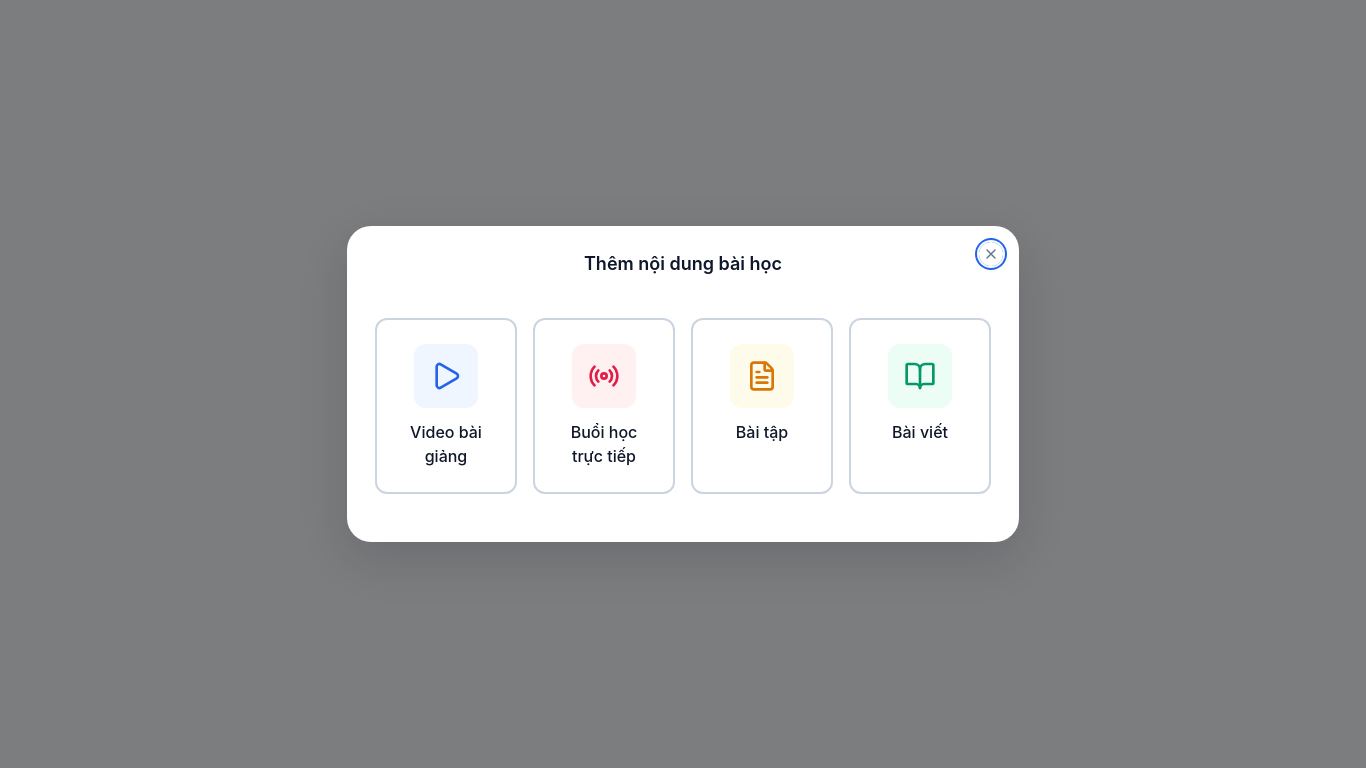
Test: AddContentModal — refetch lớp hỏng nhưng cache còn lớp (M-7) › khoá ≥2 lớp: ô chọn lớp VẪN hiện, không hiện banner chặn
Click the button "Buổi học trực tiếp".
click(604, 406)  # box [533,318,675,494]
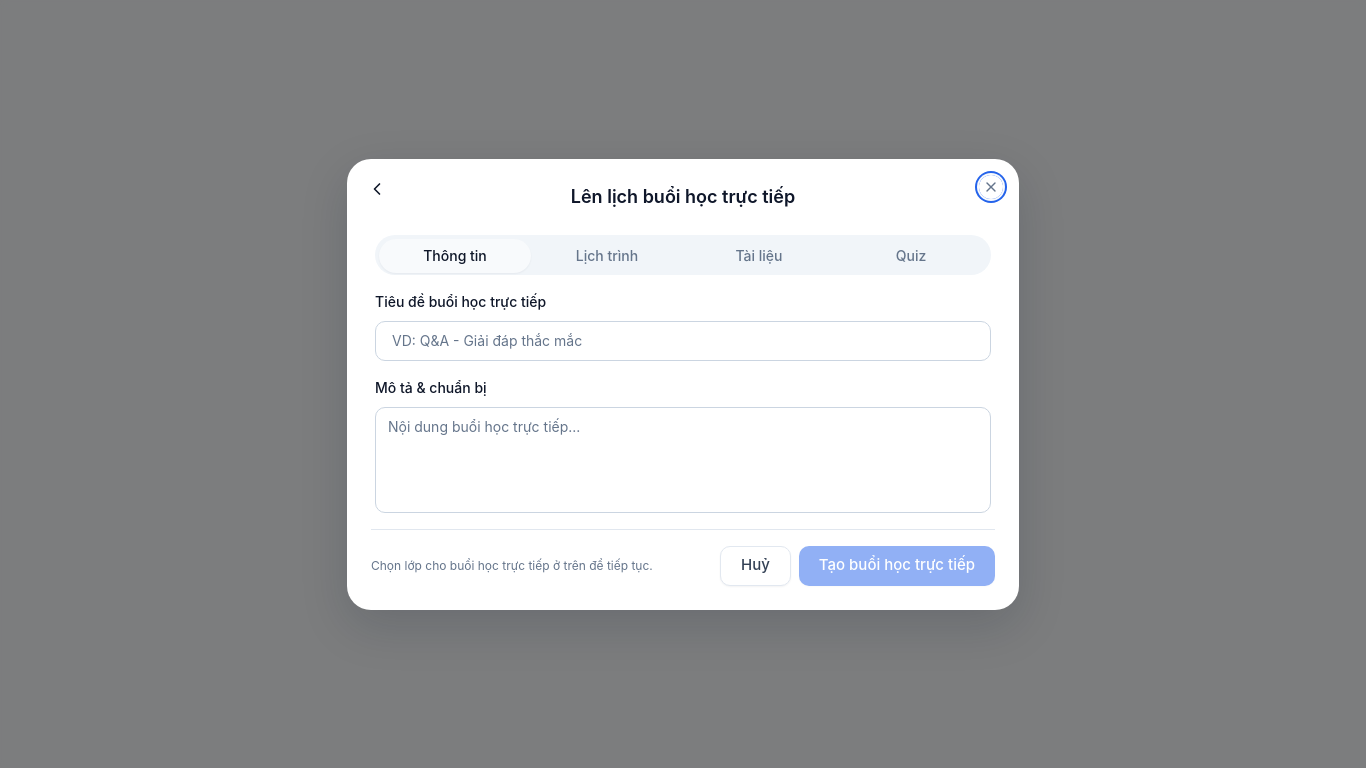
Type "Buổi Q&A" into the field labelled "Tiêu đề buổi học trực tiếp".
click(683, 340); type("Buổi Q&A")  # box [375,320,991,360]
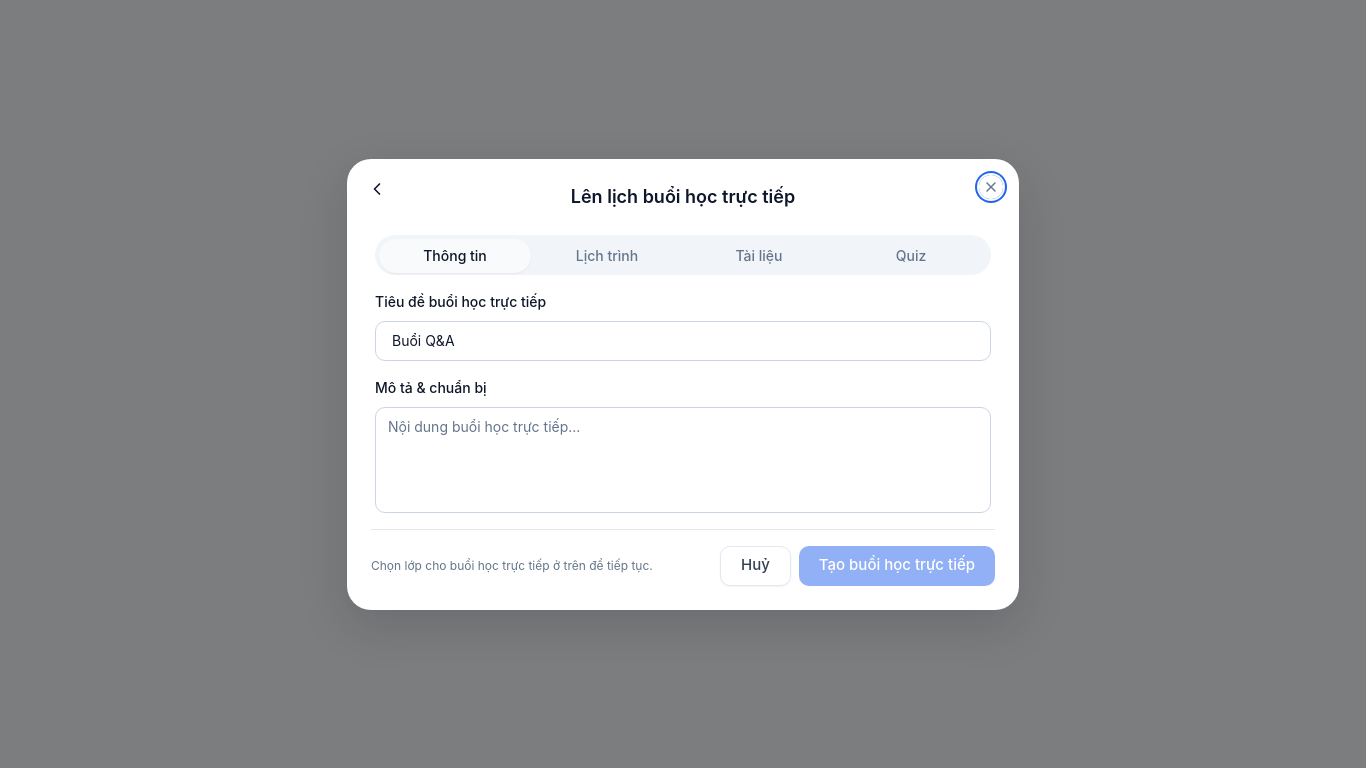
Click the tab "Lịch trình".
click(607, 256)  # box [531,238,683,272]
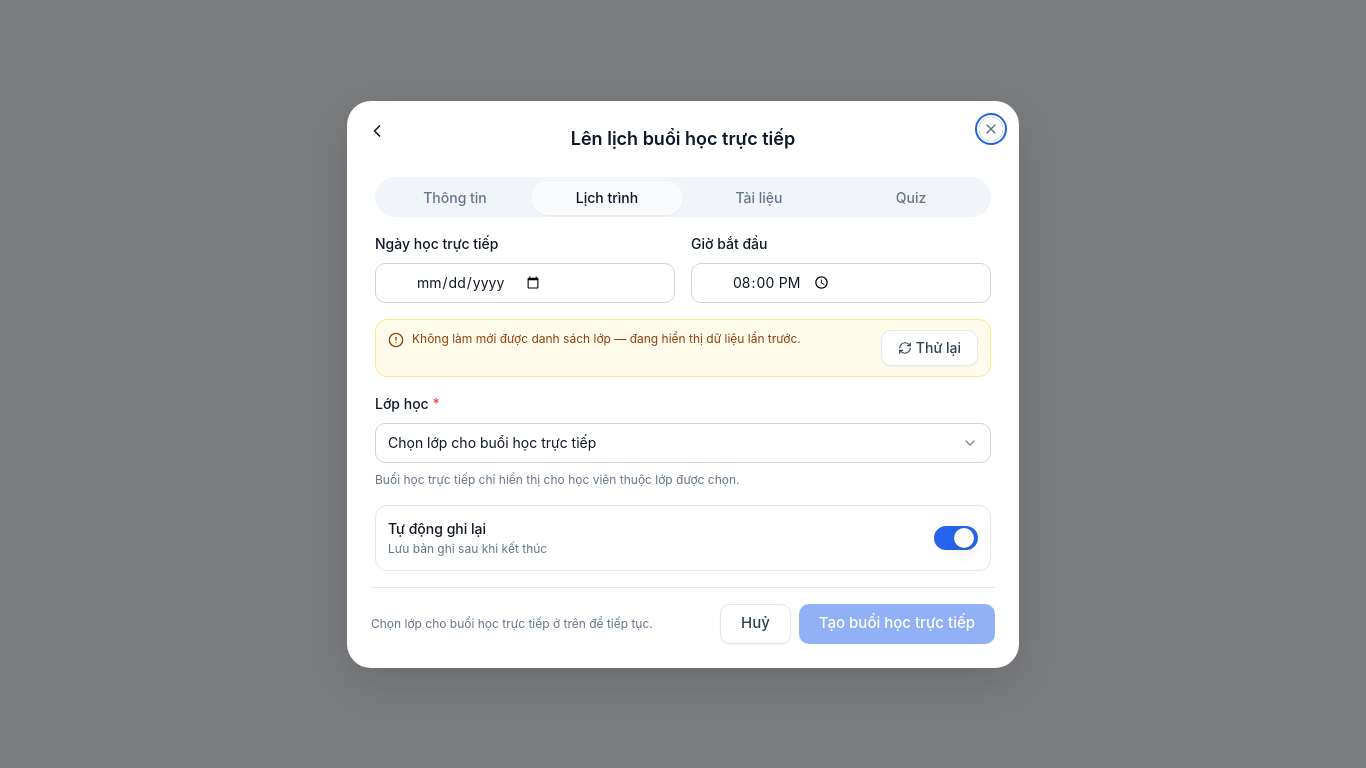
Result: the text "Chọn lớp cho buổi học trực tiếp" is shown at [388,432,596,454]
Result: the text "đang hiển thị dữ liệu lần trước" is shown at [412,330,801,346]
